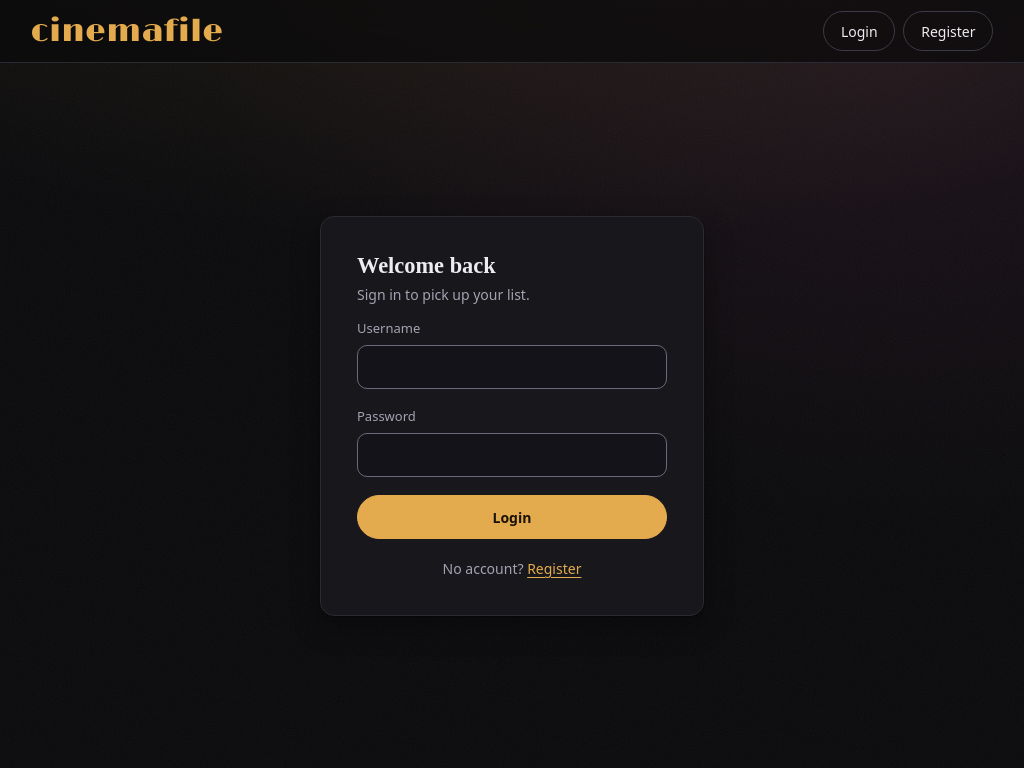
LoginForm › shows the server's reason for refusing
The image size is (1024, 768).
Type "alice" into the field labelled "Username". click: (512, 367)
box: [357,345,667,389]
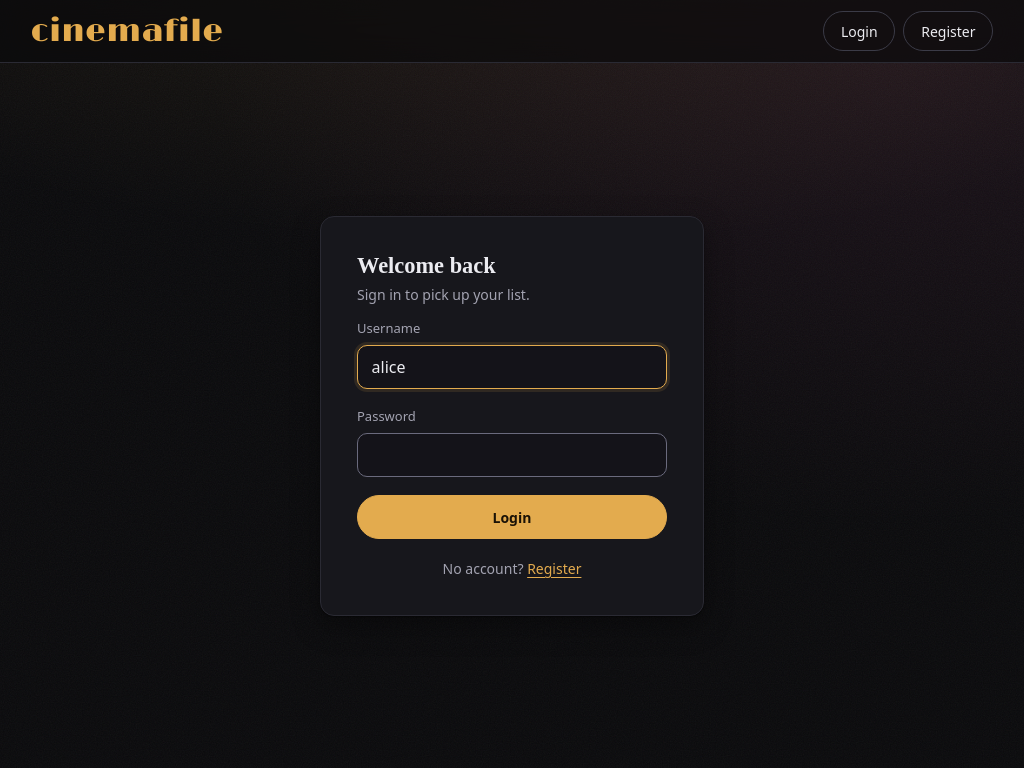
Type "wrong" into the password field labelled "Password". click: (512, 455)
box: [357,433,667,477]
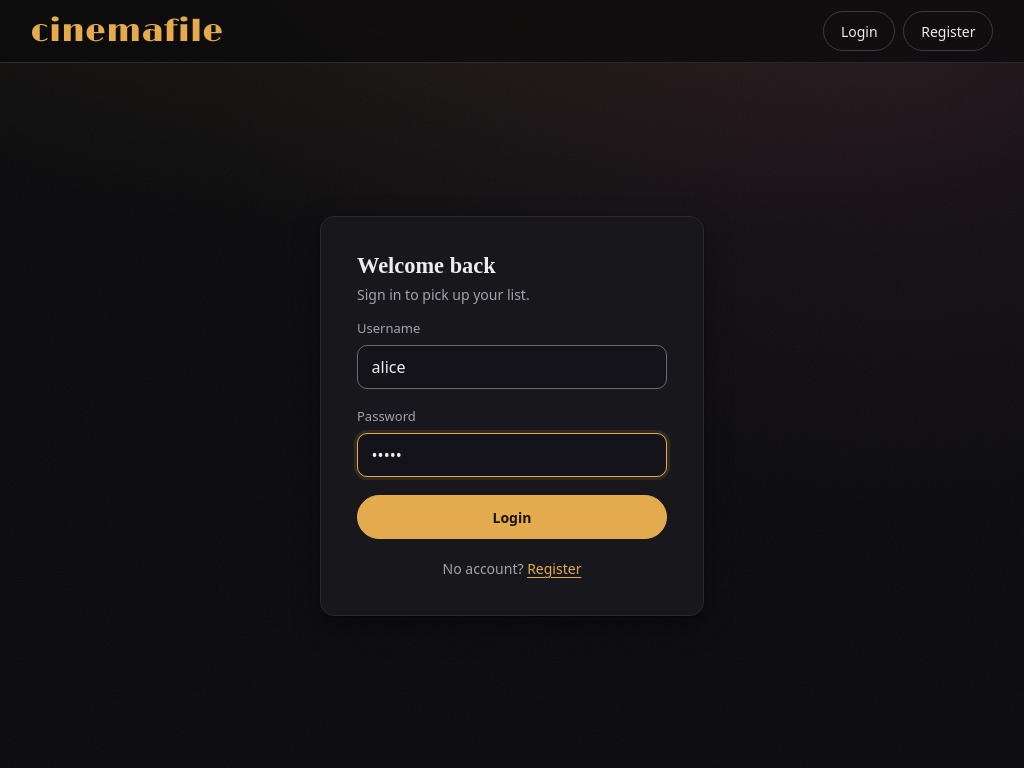
Click the button "Login". click: click(512, 517)
box: [357,495,667,539]
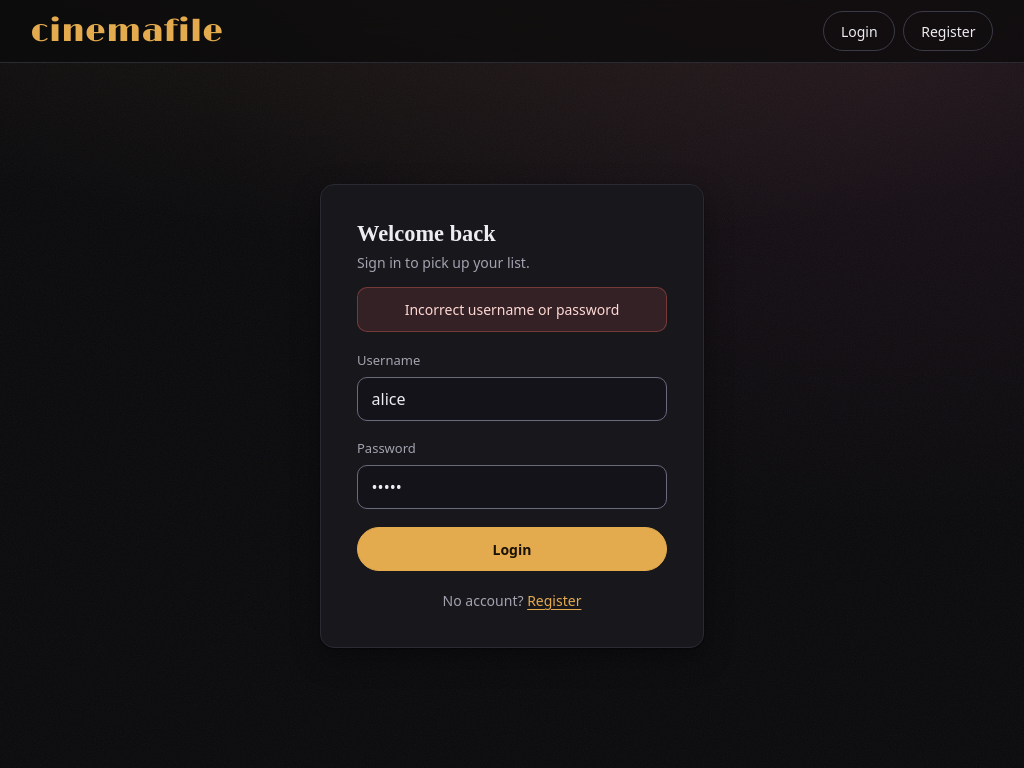
Now the message reads "Incorrect username or password", box [405,300,619,319]
